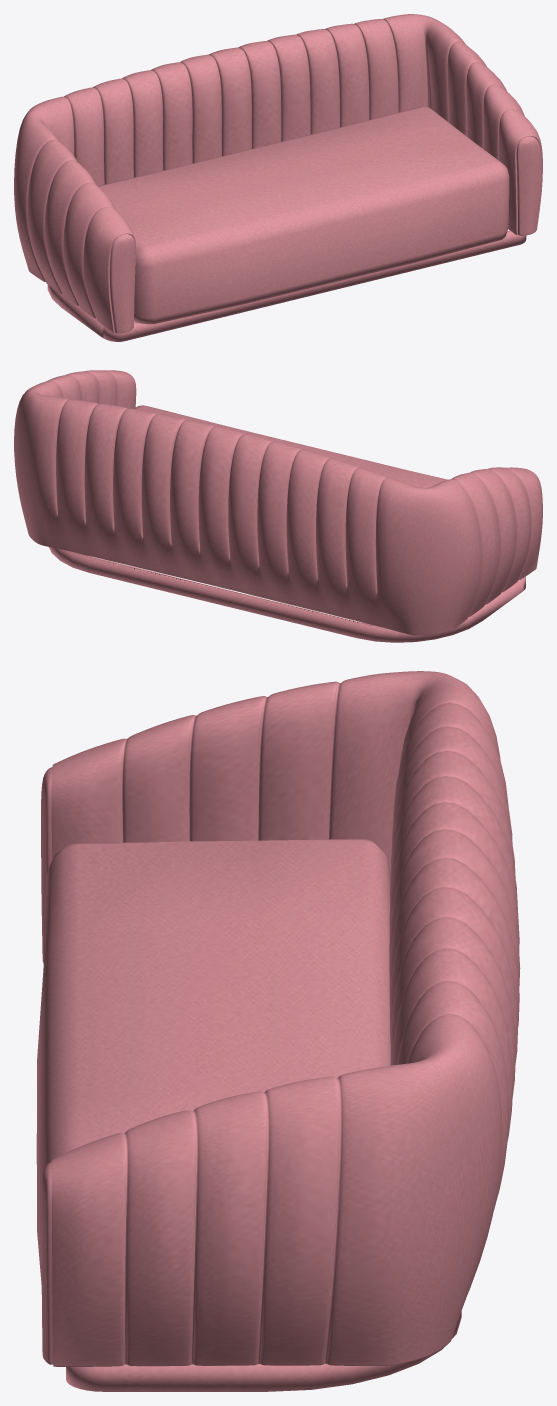
3 renders of one model, top to bottom at view 1: azimuth 30°, elevation 25°; view 2: azimuth 150°, elevation 25°; view 3: azimuth 270°, elevation 25°, orthographic. The views are drawn at different scales.
Parts seen in each view (by area): view 1: g (×3); view 2: g (×3); view 3: g (×3).
Part boxes in pixels (box(x1,y1,x2,y2)): g (×3): box(14, 14, 542, 341); g (×3): box(14, 370, 542, 642); g (×3): box(36, 671, 520, 1391).
Size of the model in its own units: 2 by 0.7114 by 0.9053.
1 material, 1 textured.
